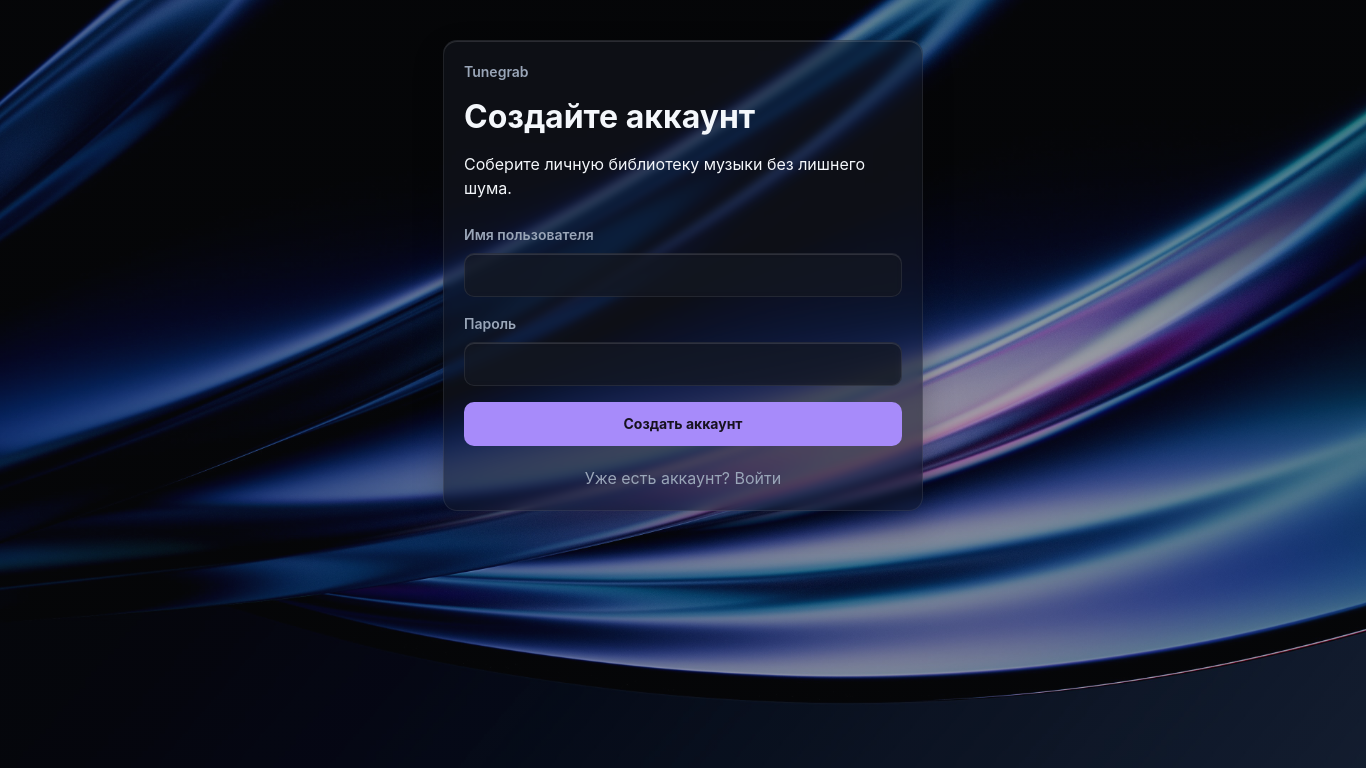
Test case: auth views › shows registration errors returned by the API
In the field with id "register-username": (683, 275) [464,253,902,297], type "bob"
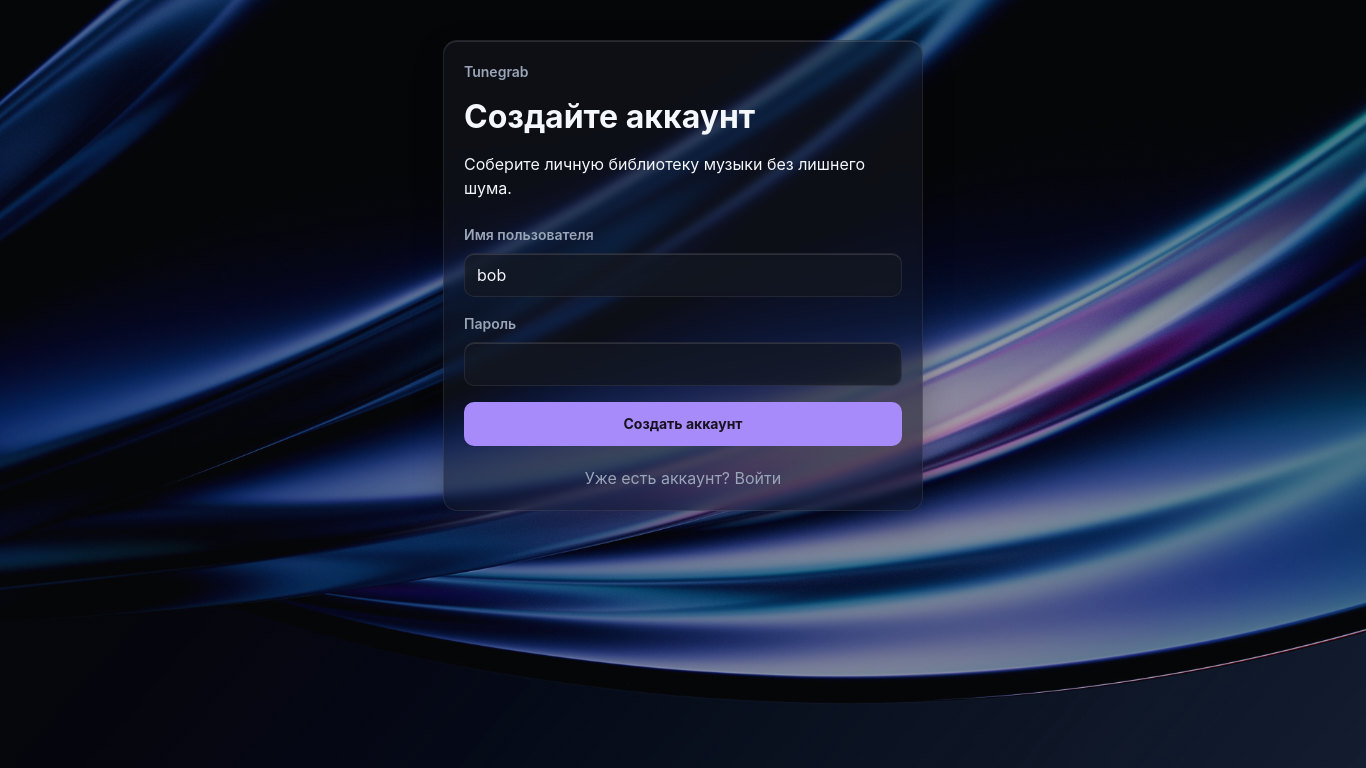
In the password field with id "register-password": (683, 364) [464,342,902,386], type "valid-password"
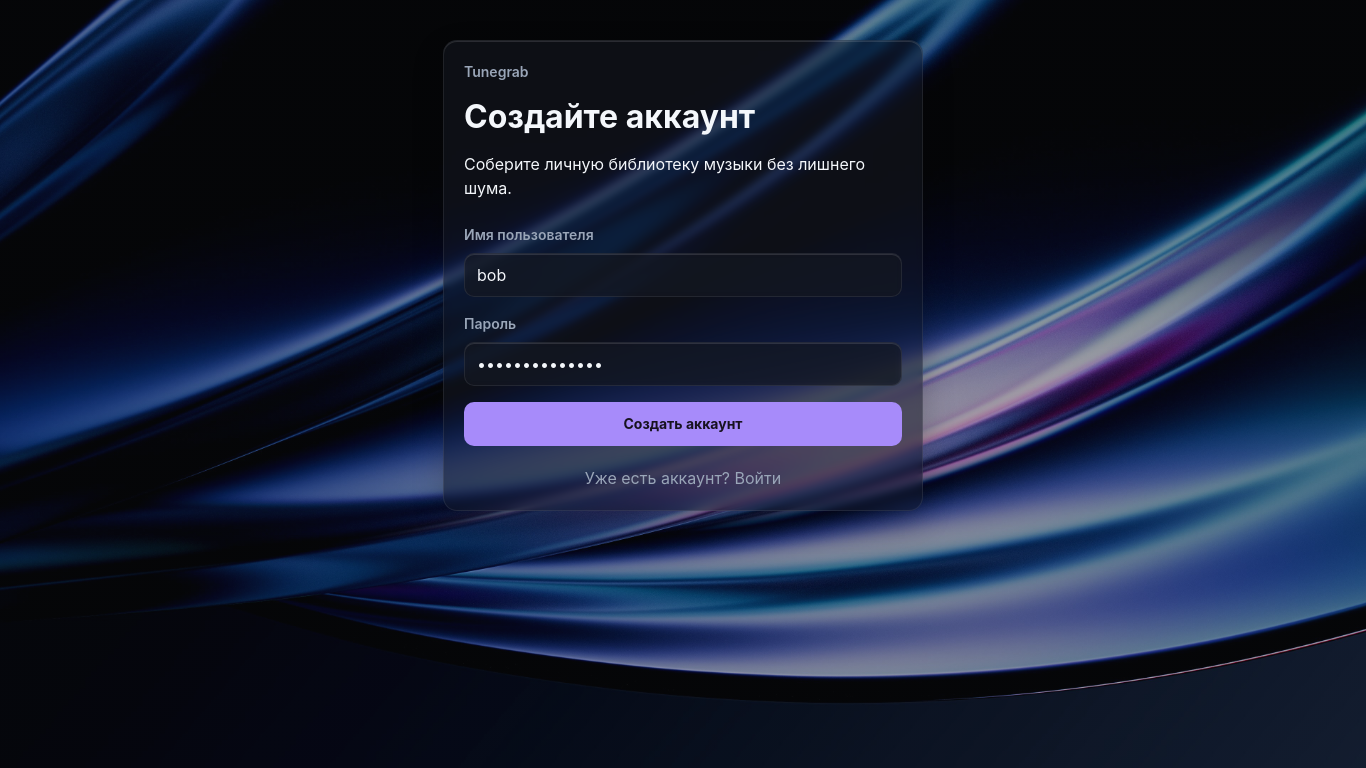
Submit the form, box [464,224,902,446]
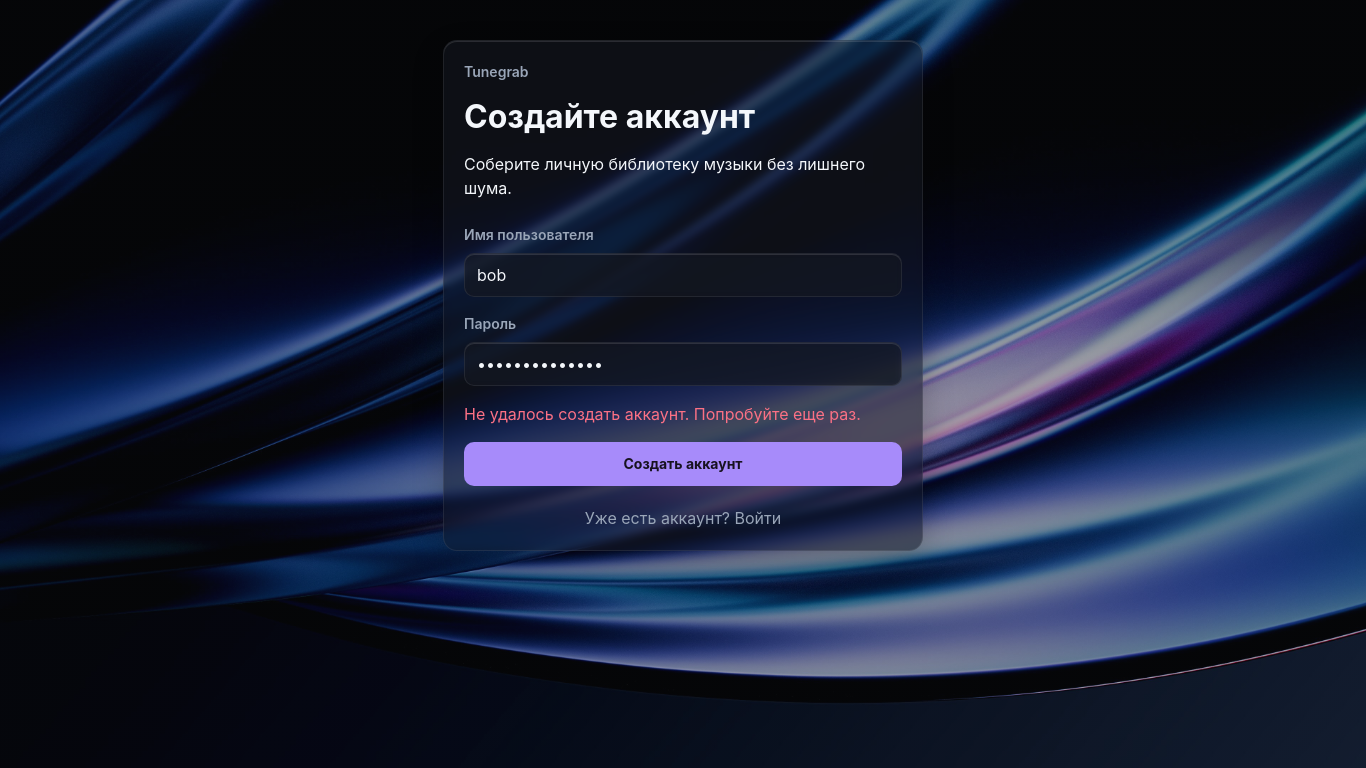
Expected: the message "Не удалось создать аккаунт. Попробуйте еще раз." is shown, [464,402,902,426]
